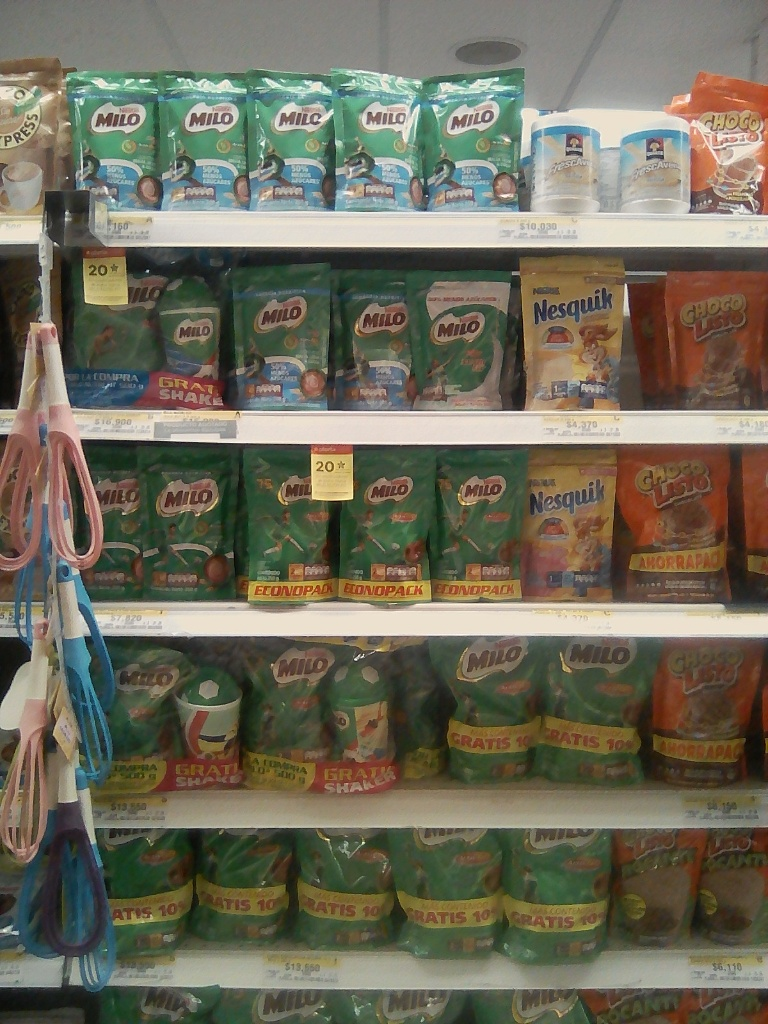COL0170102DYP25000: (699, 828, 766, 947)
COL0170103DYP20000: (664, 270, 766, 409)
COL0170103DYP40000: (619, 444, 739, 602)
COL0170203DYP25000: (431, 447, 532, 602)
COL0170203DYP50000: (234, 635, 333, 758)
COL0170205DYP20000: (420, 67, 531, 211)
COL0170205DYP50000: (62, 263, 155, 389)
COL0170305DYP20000: (524, 443, 618, 602)
COL0170306DYP20000: (516, 254, 630, 415)
